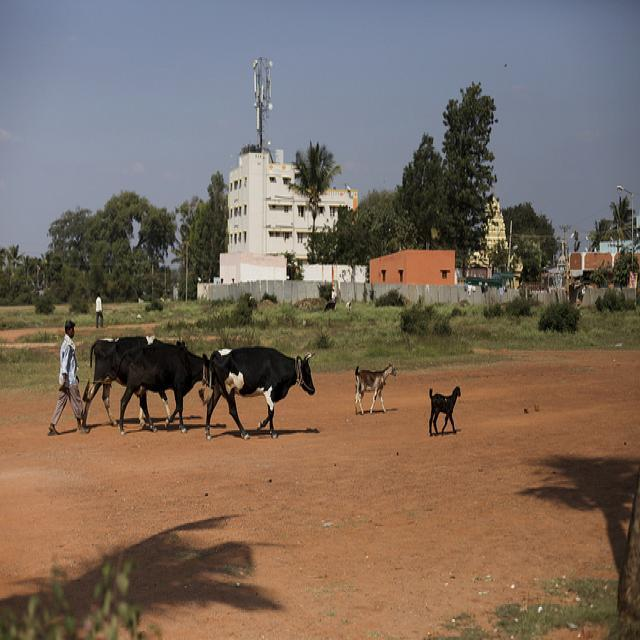cow: (200, 343, 314, 438), (97, 342, 208, 435), (80, 333, 185, 424)
